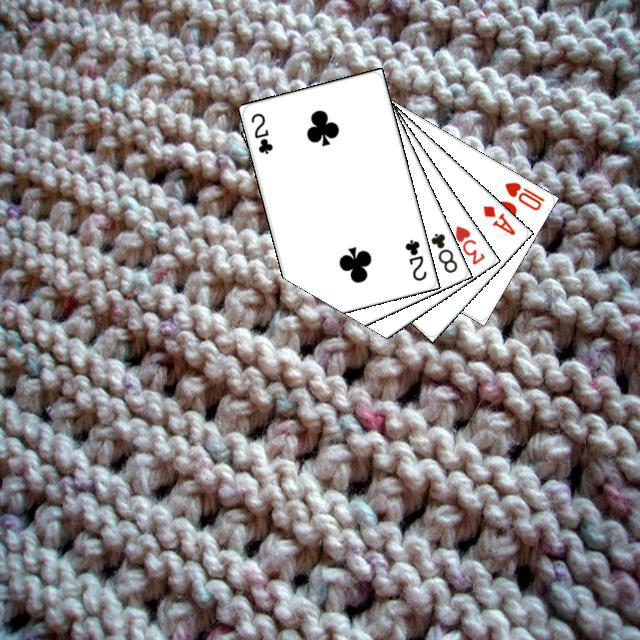10h: (499, 177, 546, 212)
2c: (400, 234, 428, 282), (246, 108, 274, 156)
3h: (450, 221, 487, 267)
8c: (426, 228, 459, 275)
Ad: (478, 200, 517, 237)
